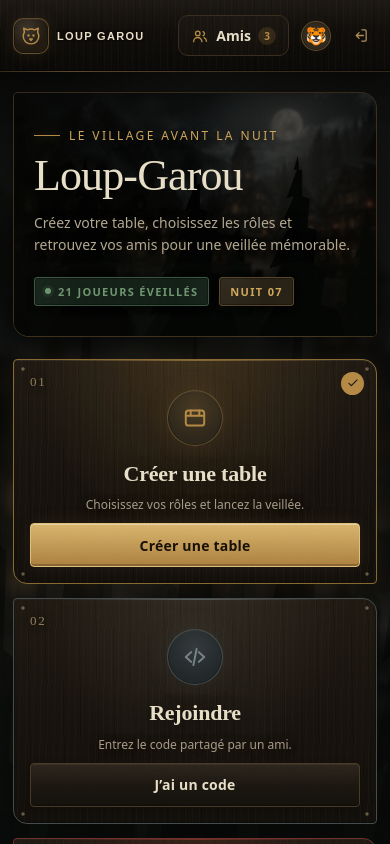
Test: Home › ouvre le tiroir d’amis sur mobile
Click the button "Amis 3". click: (234, 36)
box: [178,15,289,56]
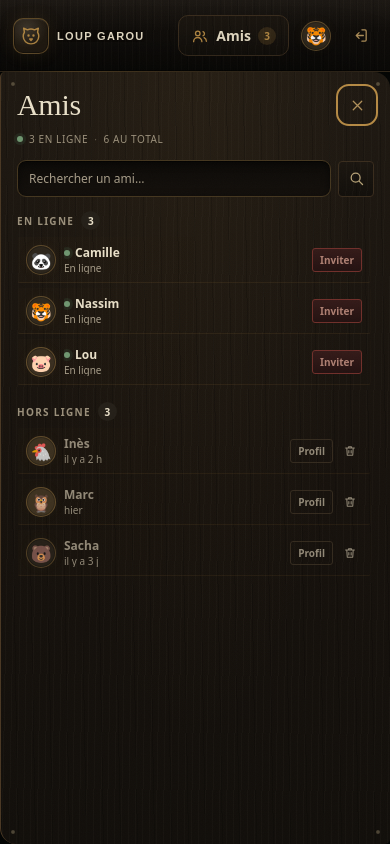
Check: the dialog "Amis" is shown
